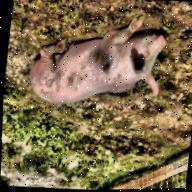boar: (26, 7, 172, 111)
